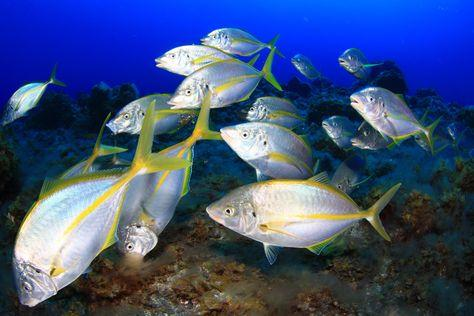fish: (15, 98, 197, 307), (13, 101, 193, 308), (117, 82, 225, 266), (206, 172, 402, 265), (168, 46, 283, 110), (349, 86, 442, 158), (220, 124, 314, 181), (2, 66, 65, 124), (107, 93, 181, 136), (201, 27, 284, 57), (156, 44, 233, 76), (338, 47, 379, 78), (323, 113, 358, 147), (291, 51, 325, 82)
